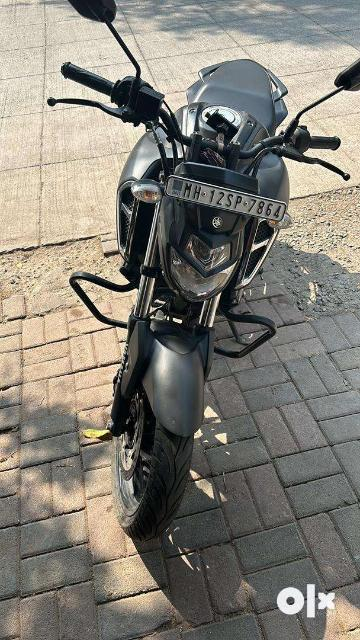Indian_Number_Plate: (165, 174, 288, 222)
